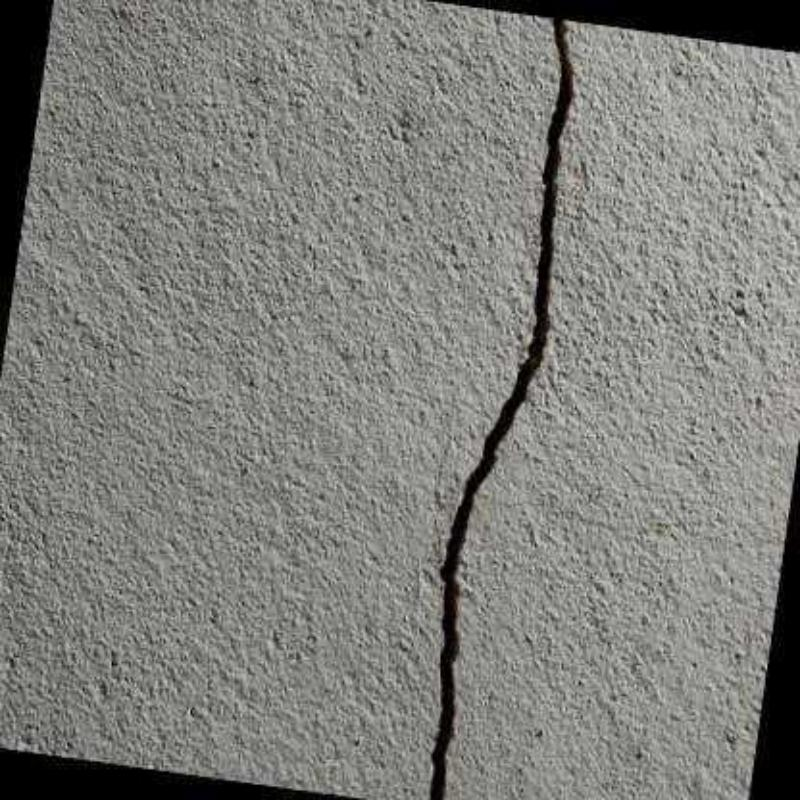pothole: (428, 17, 573, 800)
